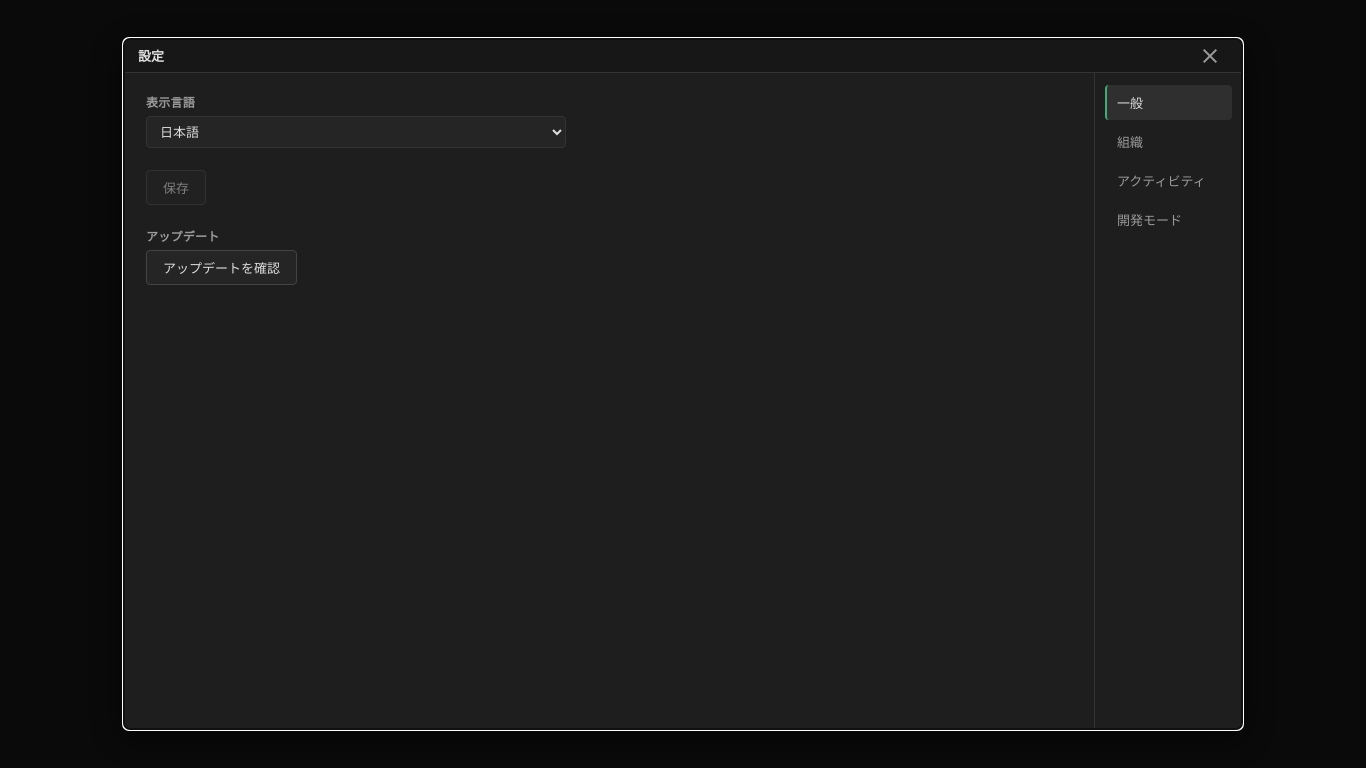
Test case: SettingsModal General tab › reports an error when the check rejects
Click the button "アップデートを確認". click: click(222, 268)
box: [146,250,297,285]
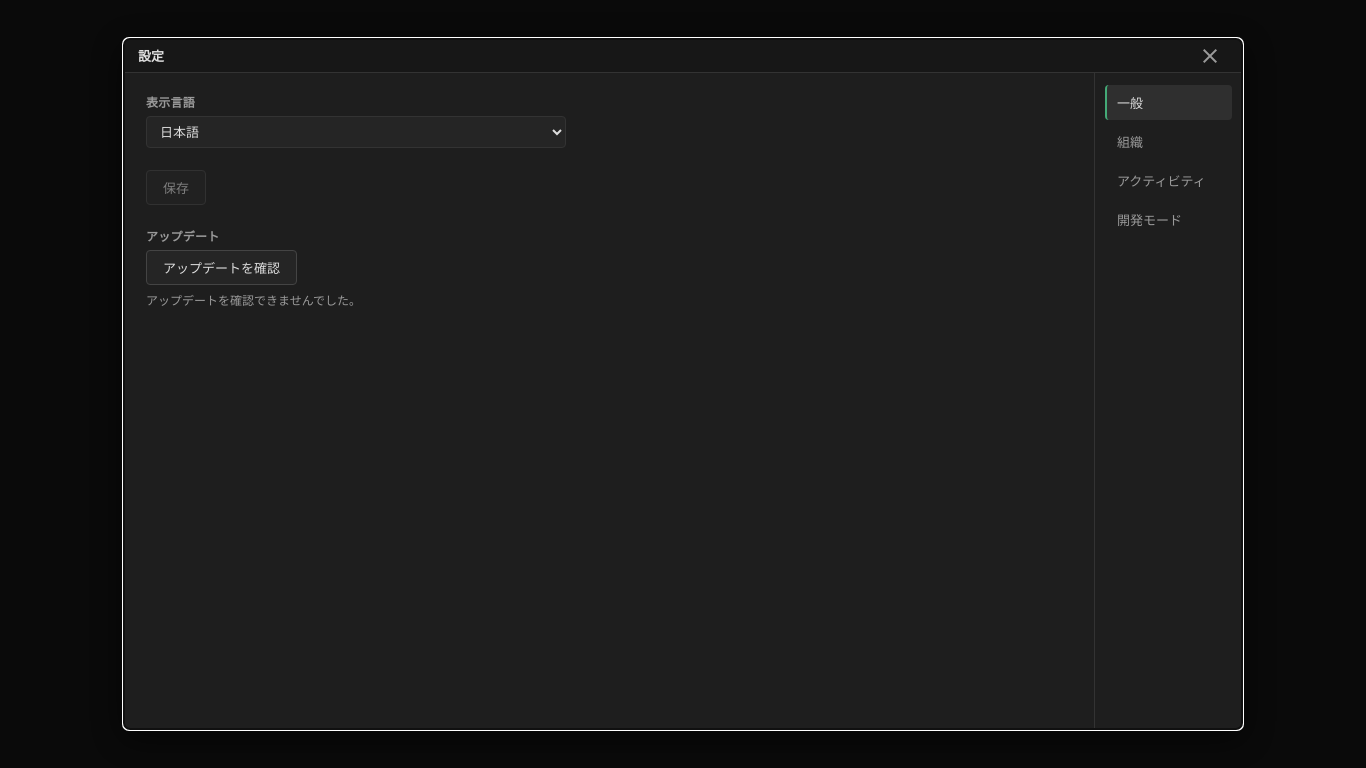
Expected: the text "アップデートを確認できませんでした。" is shown, [146,293,361,308]
